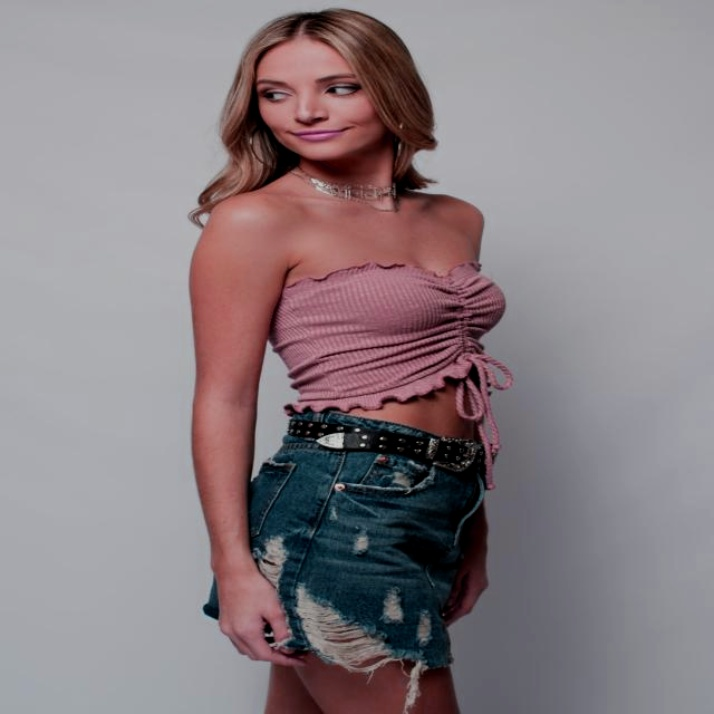Crop_Top: (269, 285, 508, 442)
Shorts: (199, 407, 498, 714)
Sleeveless: (187, 190, 291, 268), (430, 192, 487, 240)
low_neckline: (268, 180, 506, 369)
